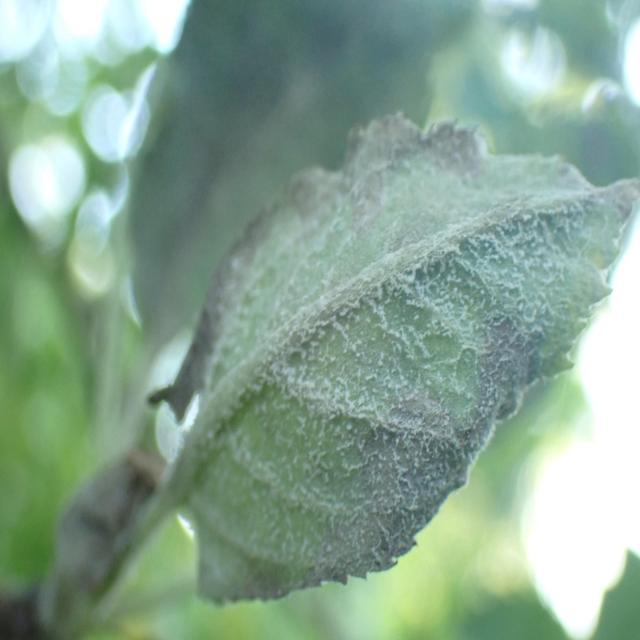Powdery_mildew: (137, 91, 627, 609)
